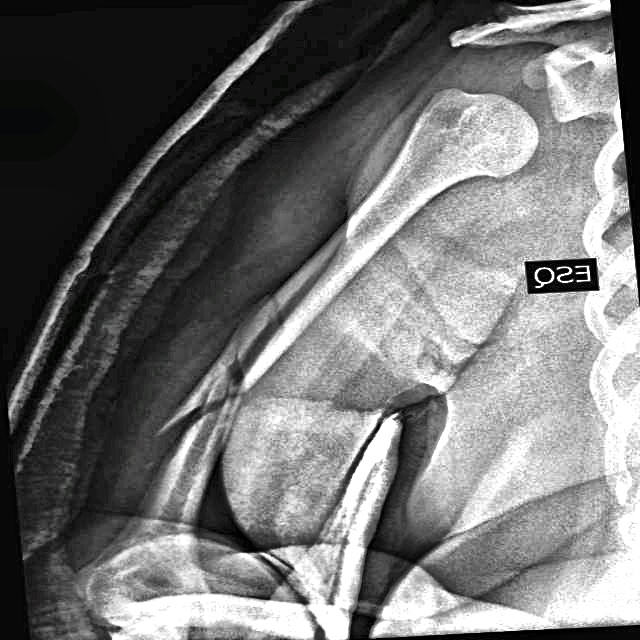Spiral: (150, 305, 288, 460)
